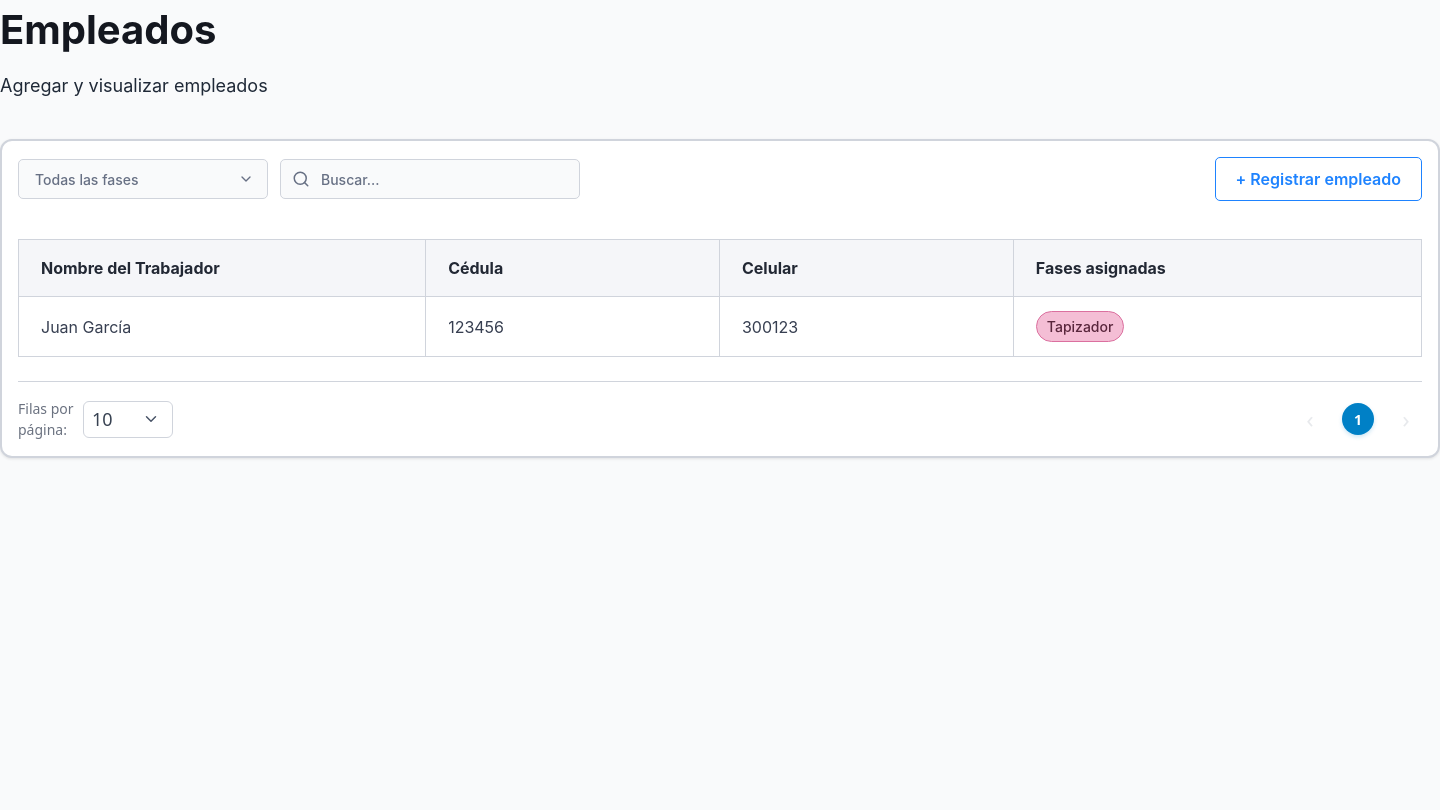
Scenario: REGRESION - Empleados › CP7: debe cerrar drawer con botón X
Click the text "Juan García" at x=222, y=327, box [18,297,426,357]
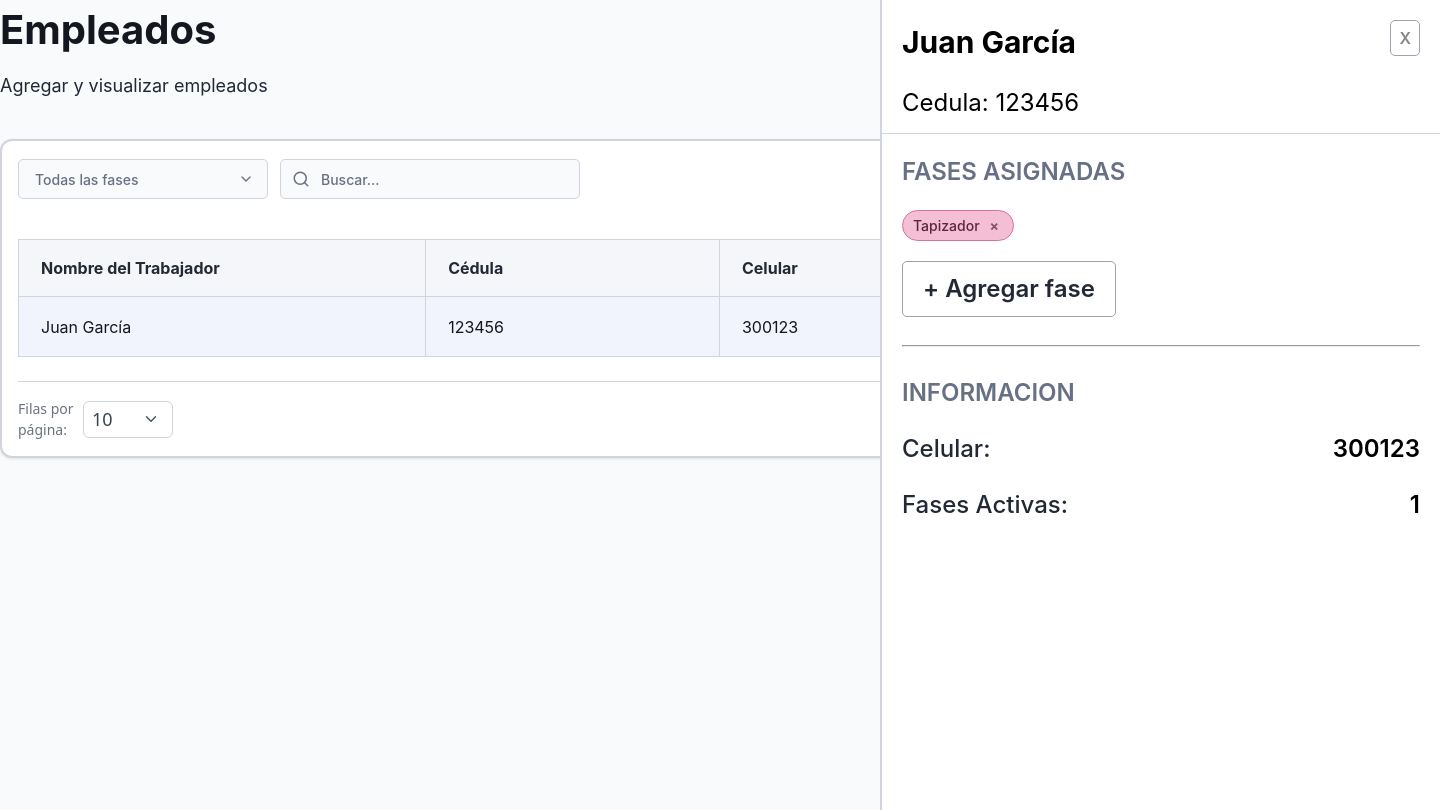
Check: the dialog is shown, box [880,0,1439,809]
Click the button named "Cerrar detalle" at x=1405, y=38, box [1390,20,1420,56]
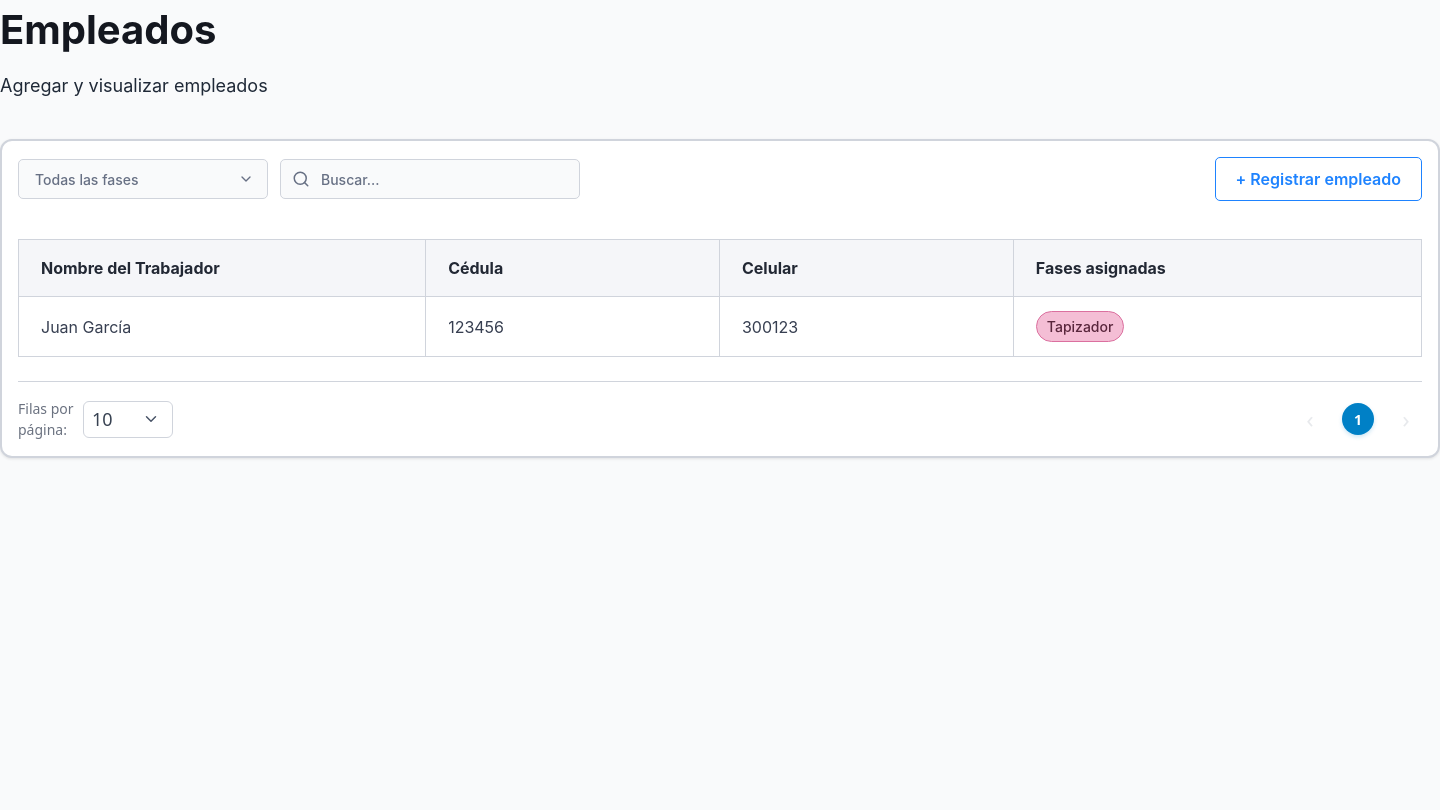
Check: the dialog is gone
